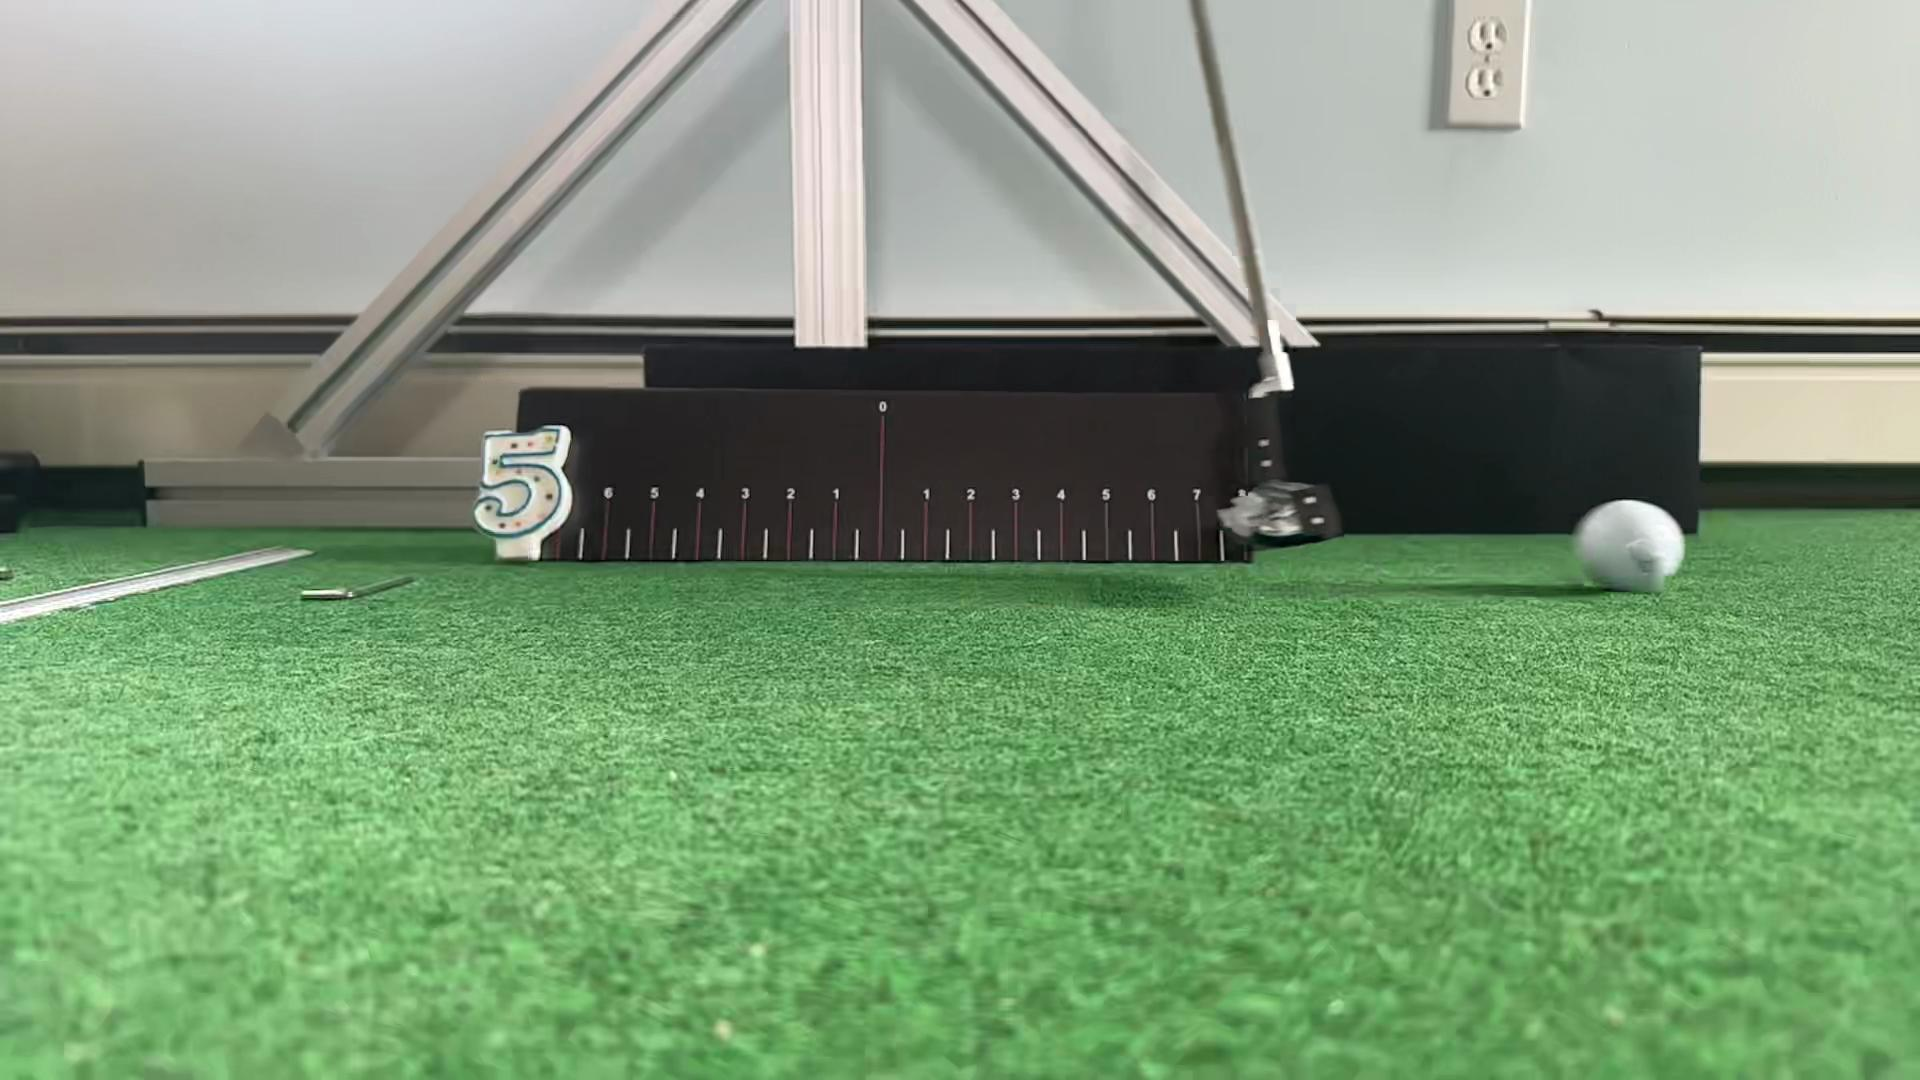golfball: (1573, 500, 1684, 593)
